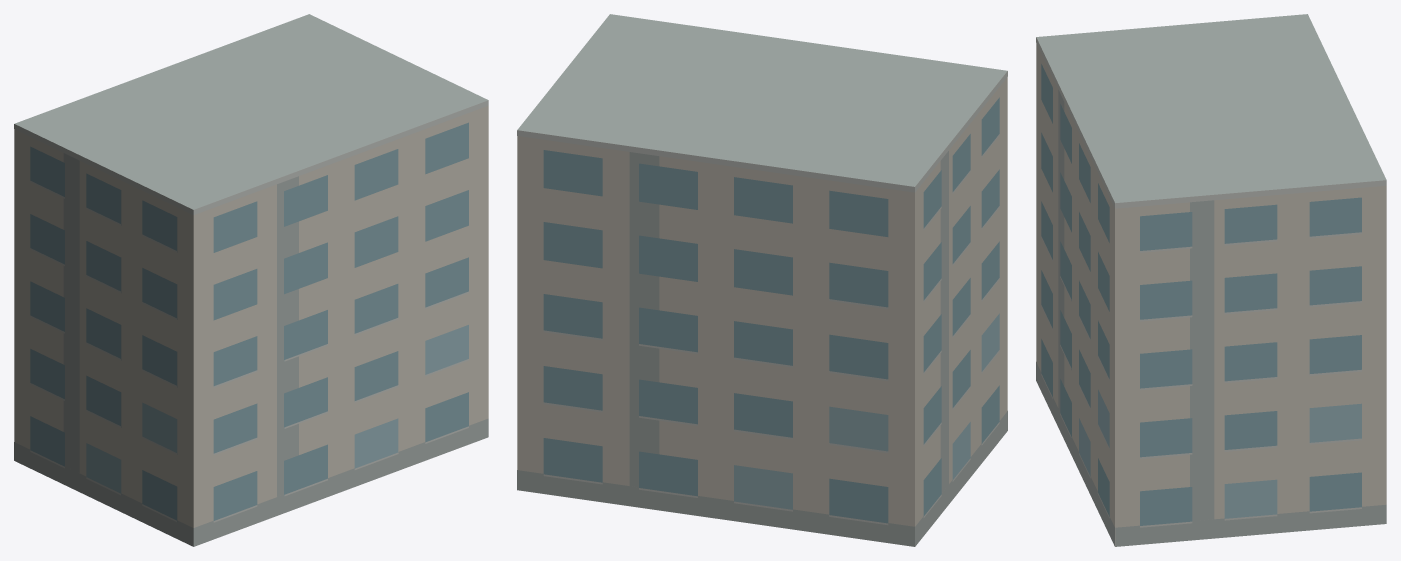
File: residential-36d73833-625e-4069-a3f5-b13cbd5f214b.glb
3 views of the same model, side by side, from view 1: azimuth 30°, elevation 25°; view 2: azimuth 150°, elevation 25°; view 3: azimuth 270°, elevation 25° (orthographic). The views are drawn at different scales.
Parts seen in each view (by area): view 1: residential-36d73833-625e-4069-a3f5-b13cbd5f214b.tmp; view 2: residential-36d73833-625e-4069-a3f5-b13cbd5f214b.tmp; view 3: residential-36d73833-625e-4069-a3f5-b13cbd5f214b.tmp.
Part boxes in pixels (x1,y1,x2,y2): residential-36d73833-625e-4069-a3f5-b13cbd5f214b.tmp: (14, 14, 488, 546); residential-36d73833-625e-4069-a3f5-b13cbd5f214b.tmp: (517, 14, 1007, 546); residential-36d73833-625e-4069-a3f5-b13cbd5f214b.tmp: (1036, 14, 1386, 546).
Bounding box in the file's own units: 18.01 × 15.25 × 14.1.
